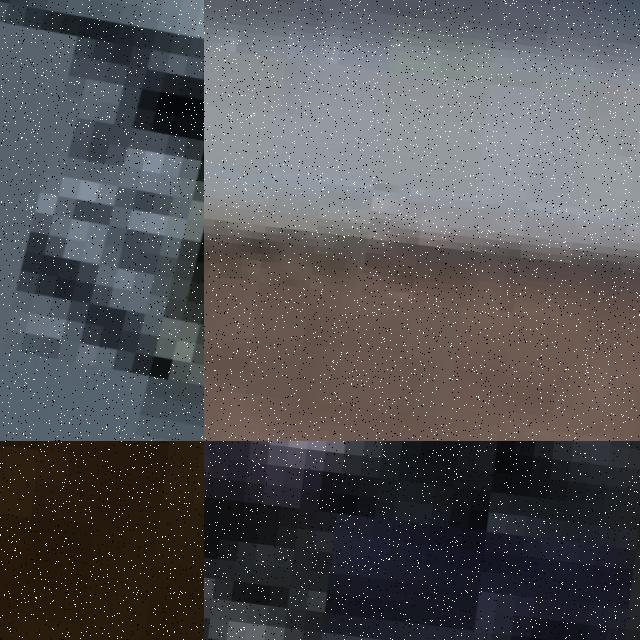drone: (0, 0, 204, 441)
